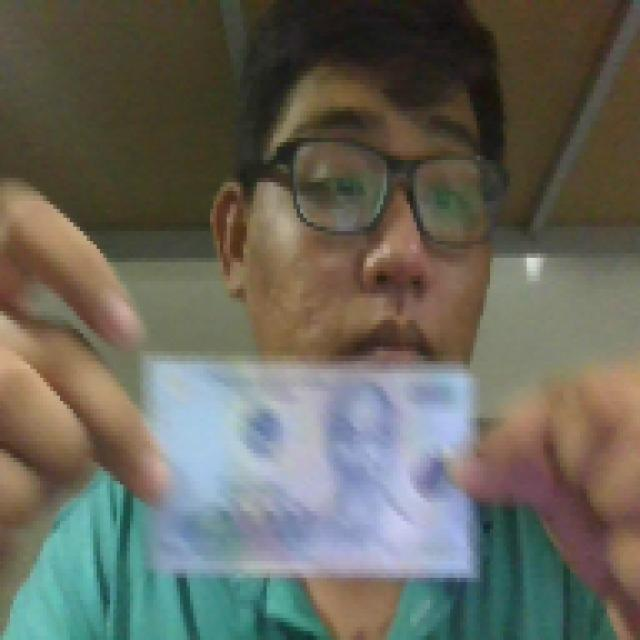20 000 VND: (136, 346, 486, 586)
